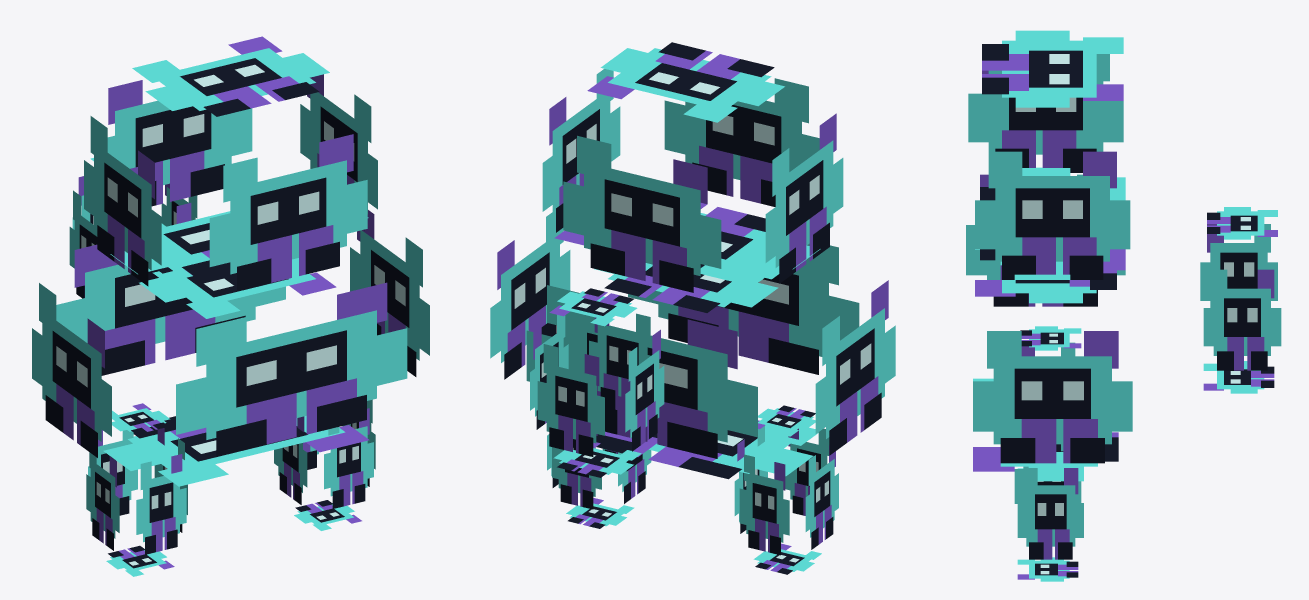
The model's file is companion.glb.
3 views of the same model, side by side, from view 1: azimuth 30°, elevation 25°; view 2: azimuth 150°, elevation 25°; view 3: azimuth 270°, elevation 25° (orthographic).
Parts seen in each view (by area): view 1: body, head, leg-left, leg-right, tail; view 2: head, body, tail, leg-left, leg-right; view 3: head, body, tail, leg-right, leg-left.
Boxes of the visible parts, box(x1,y1,x2,y2) form: body: box(32, 210, 429, 486); head: box(84, 36, 377, 318); leg-left: box(86, 403, 187, 576); leg-right: box(274, 399, 375, 530); tail: box(69, 158, 197, 298); head: box(542, 42, 843, 312); body: box(490, 203, 895, 479); tail: box(530, 288, 664, 477); leg-left: box(734, 405, 838, 574); leg-right: box(547, 434, 651, 528); head: box(968, 30, 1130, 303); body: box(966, 167, 1132, 481); tail: box(1200, 207, 1281, 393); leg-right: box(1014, 444, 1083, 581); leg-left: box(1017, 326, 1081, 468).
Bounding box in the file's own units: 1.2 × 1.63 × 1.16.
Materials: 1 (1 with a texture image).
